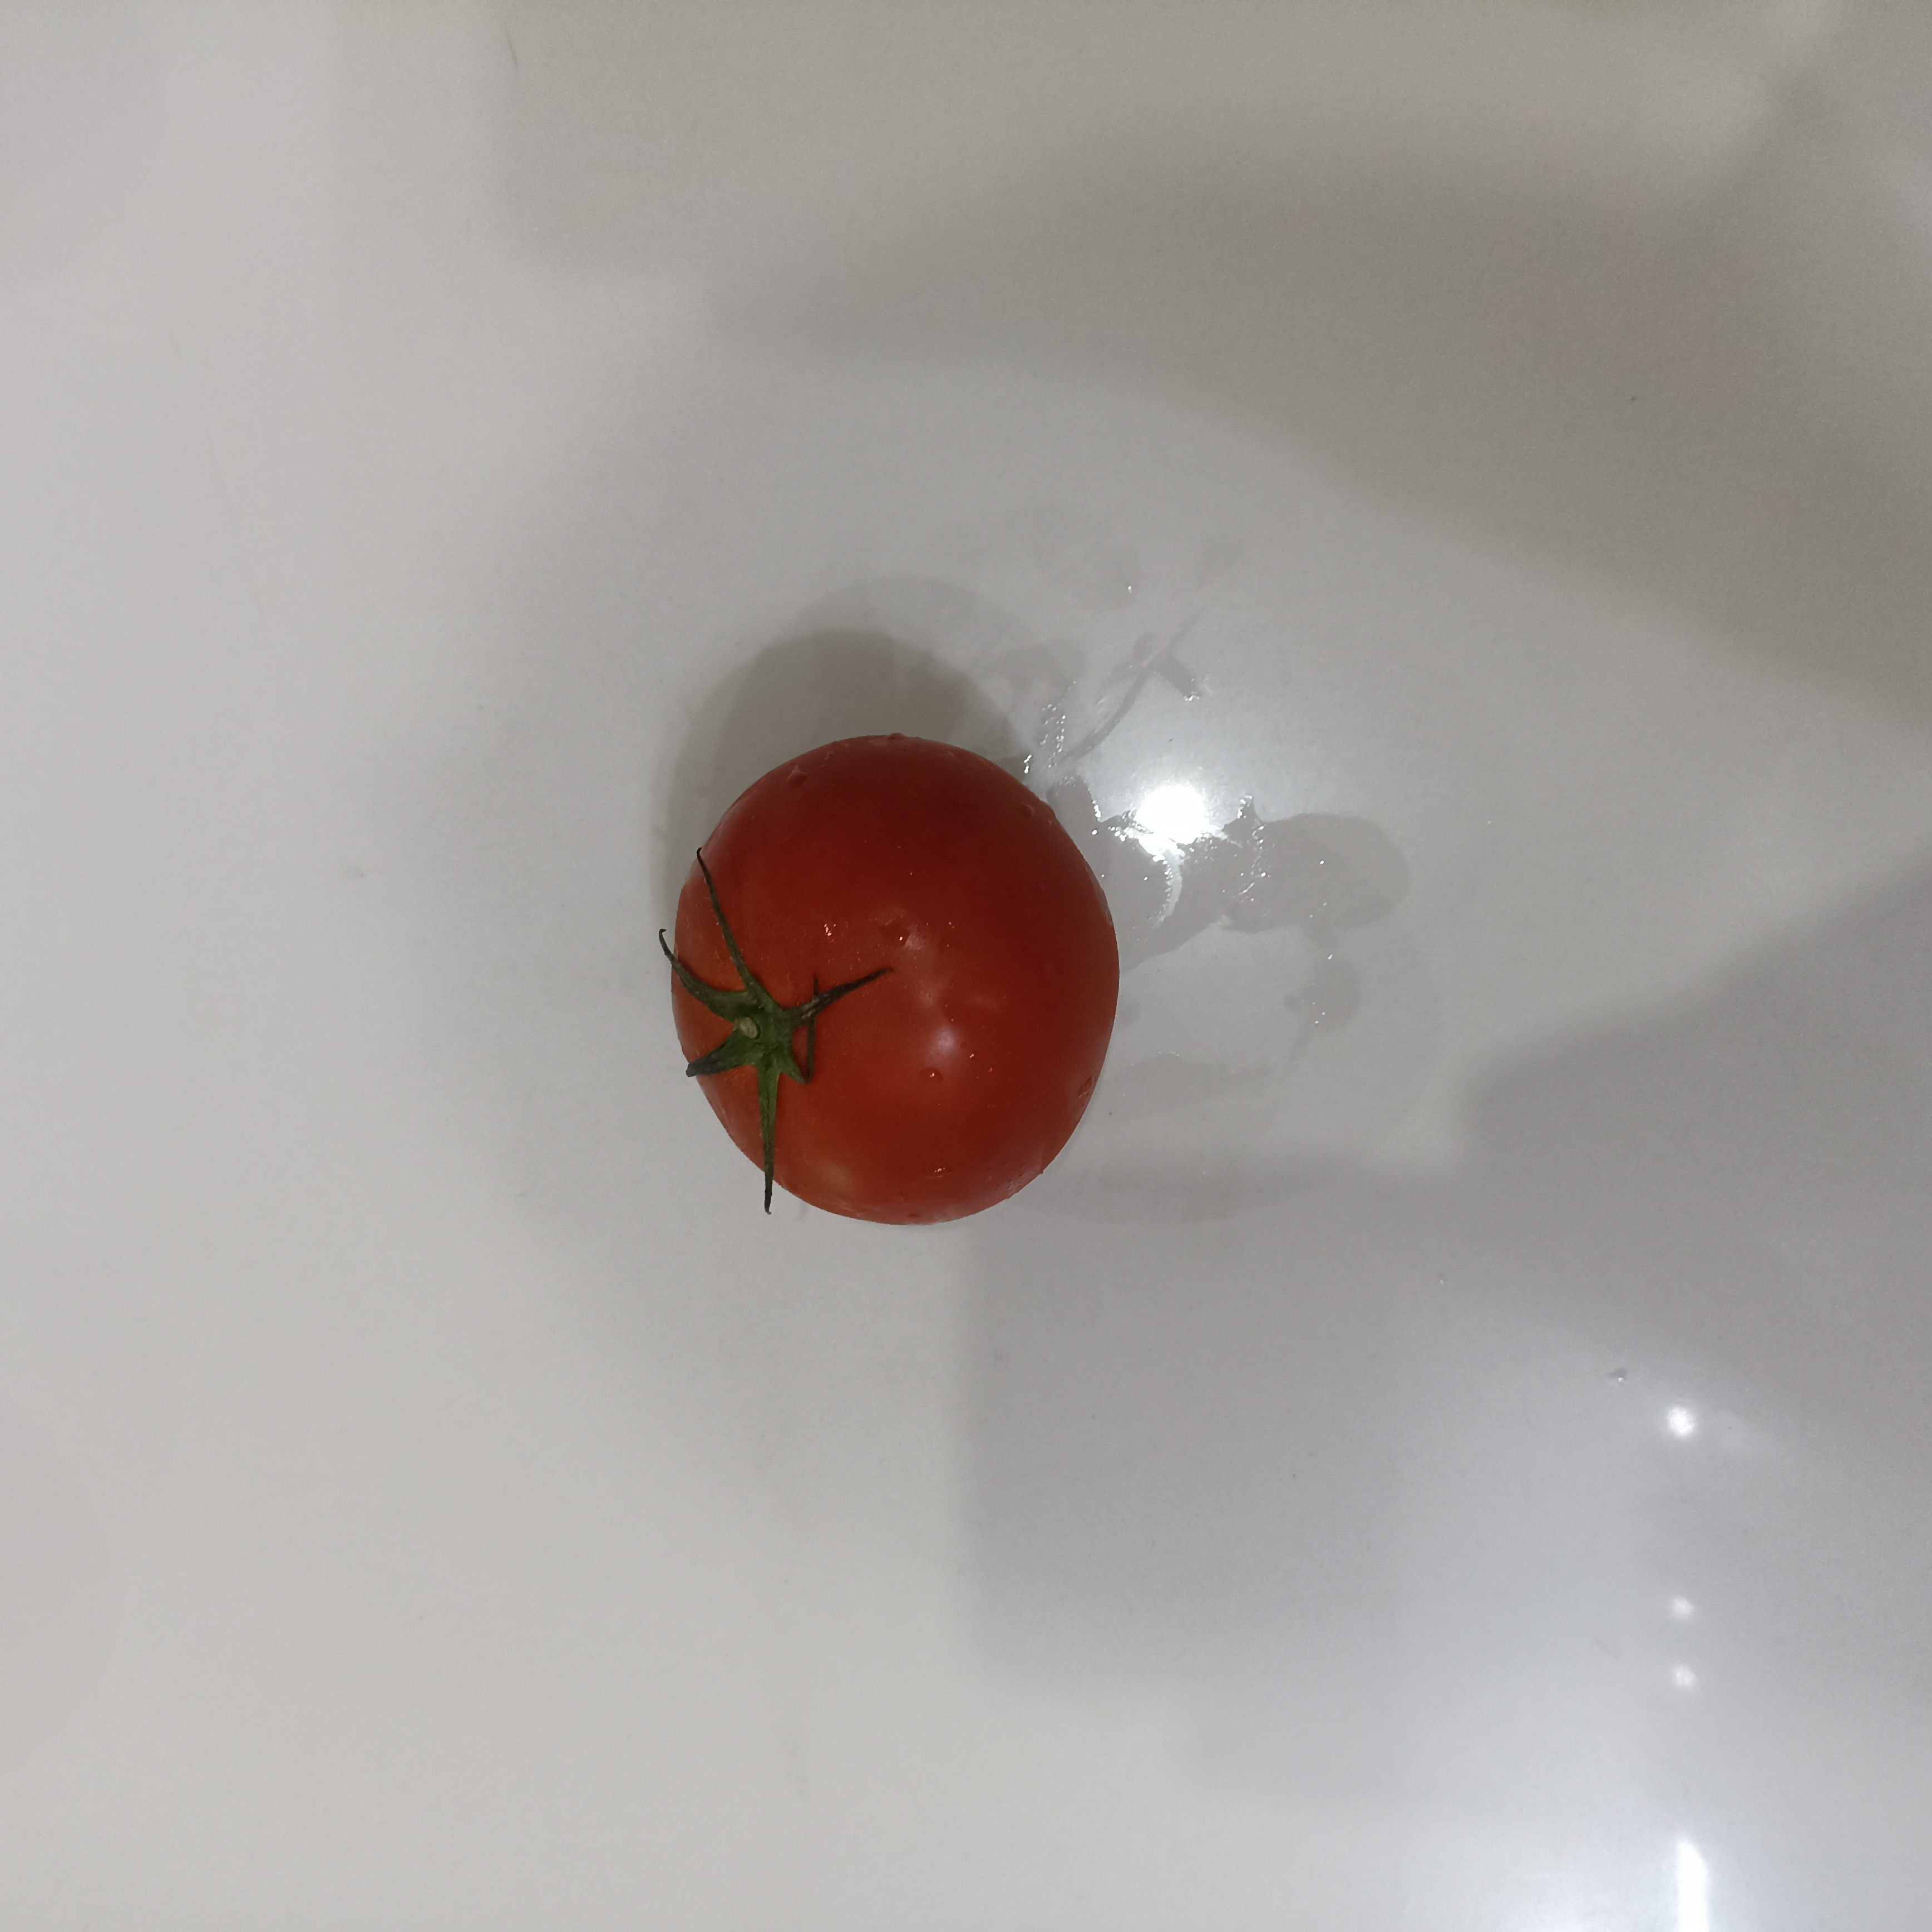Ca chua: (669, 731, 1122, 1230)
